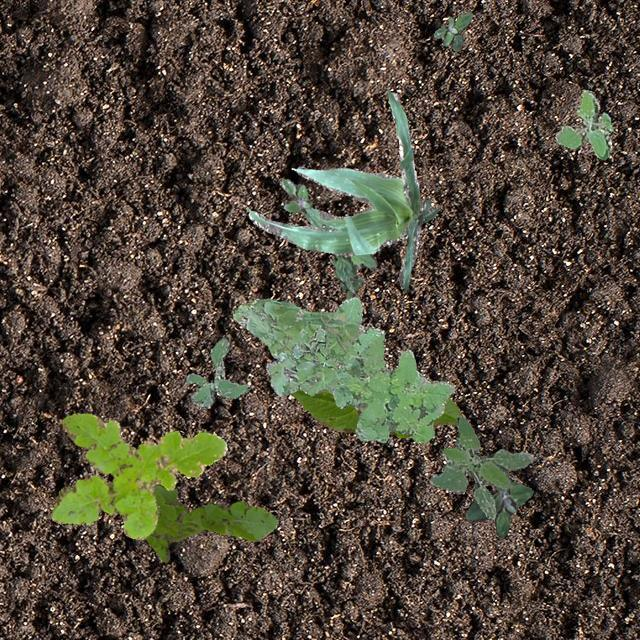crop: (247, 88, 438, 290), (292, 388, 460, 437)
weed: (232, 296, 454, 442), (50, 412, 226, 538), (428, 414, 534, 518), (144, 482, 278, 562), (466, 462, 532, 538), (184, 336, 248, 408), (554, 88, 612, 158), (322, 224, 376, 298), (278, 176, 322, 228), (290, 328, 338, 368), (432, 10, 472, 50)
